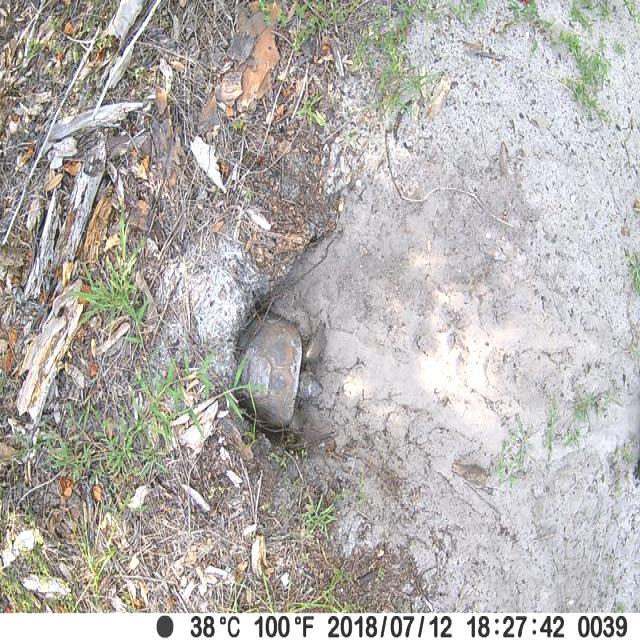tortoise: (233, 308, 325, 432), (632, 456, 639, 482)
